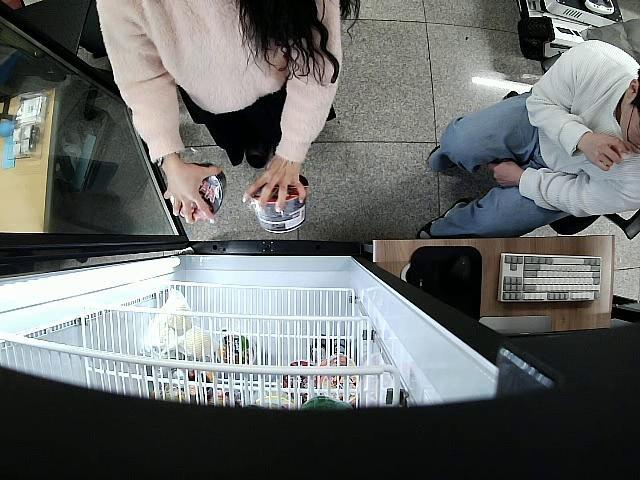07_buldak_L: (252, 176, 310, 234), (192, 161, 230, 220)
